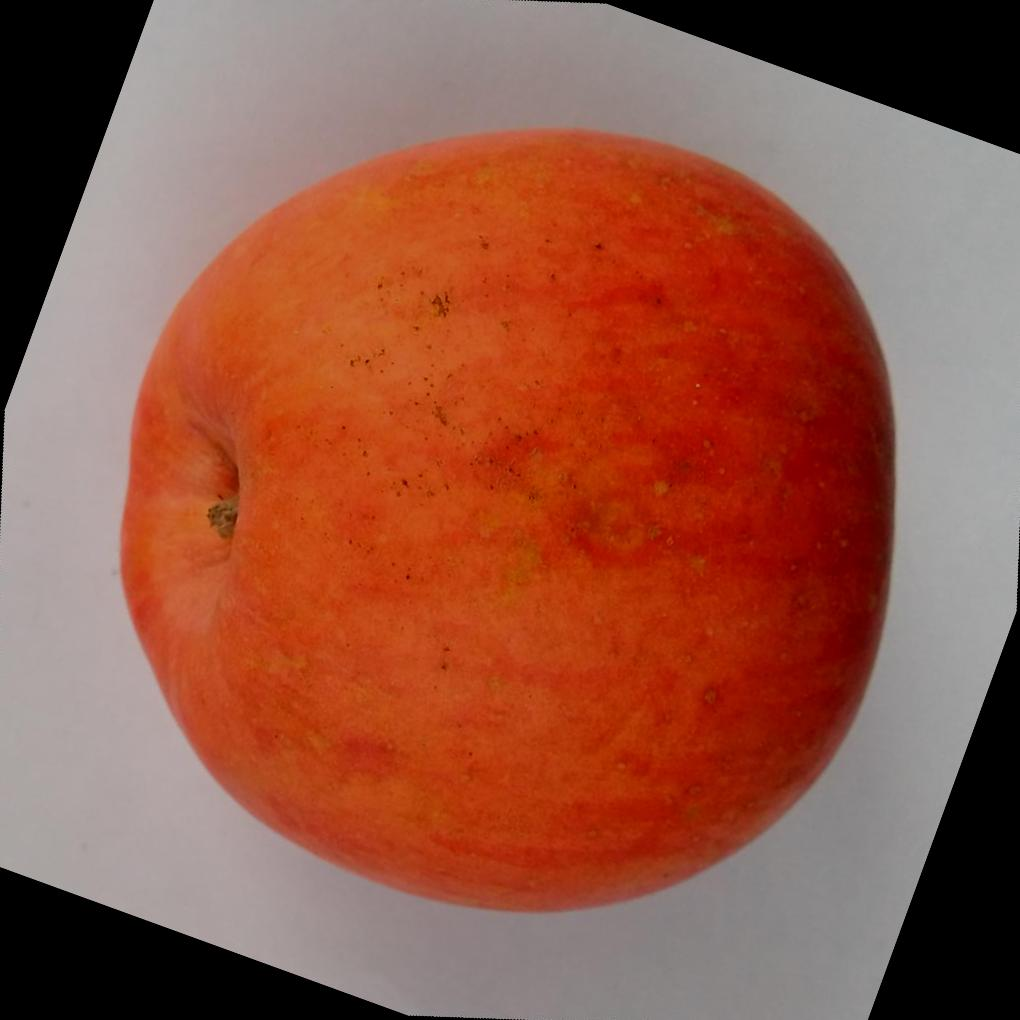FreshGuava: (118, 126, 900, 918)
